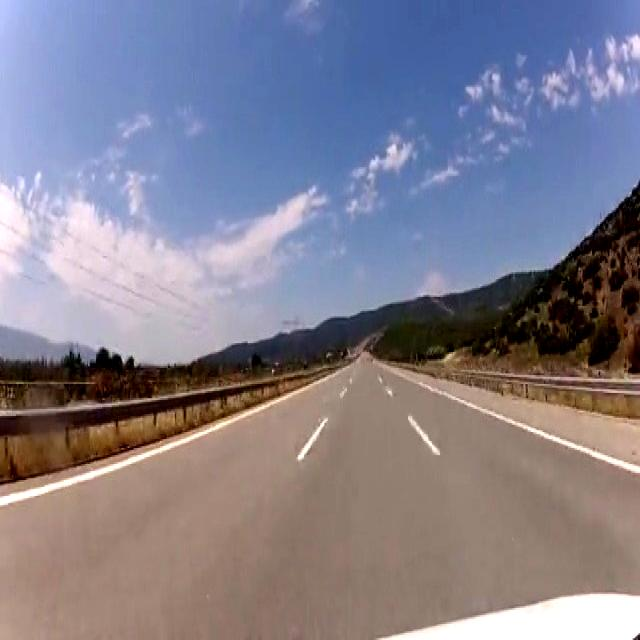lane: (0, 388, 305, 507), (566, 442, 640, 472), (408, 416, 440, 456), (298, 419, 328, 459)
road: (2, 357, 638, 637)
